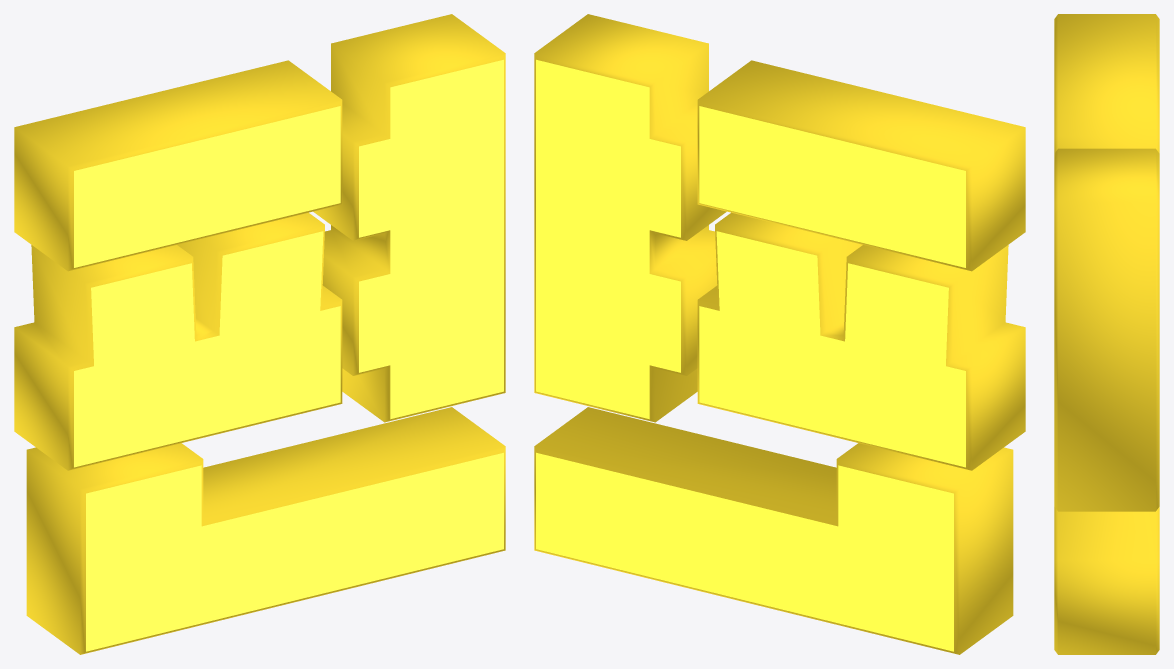
The picture shows the model from 3 angles, left to right: view 1: azimuth 30°, elevation 25°; view 2: azimuth 150°, elevation 25°; view 3: azimuth 270°, elevation 25°; orthographic projection. The views are drawn at different scales.
Parts seen in each view (by area): view 1: glyph; view 2: glyph; view 3: glyph.
Part boxes in pixels (x1,y1,x2,y2): glyph: (14,14,505,654); glyph: (534,14,1025,654); glyph: (1054,14,1159,654).
Bounding box in the file's own units: 0.0706 × 0.0768 × 0.0162.
